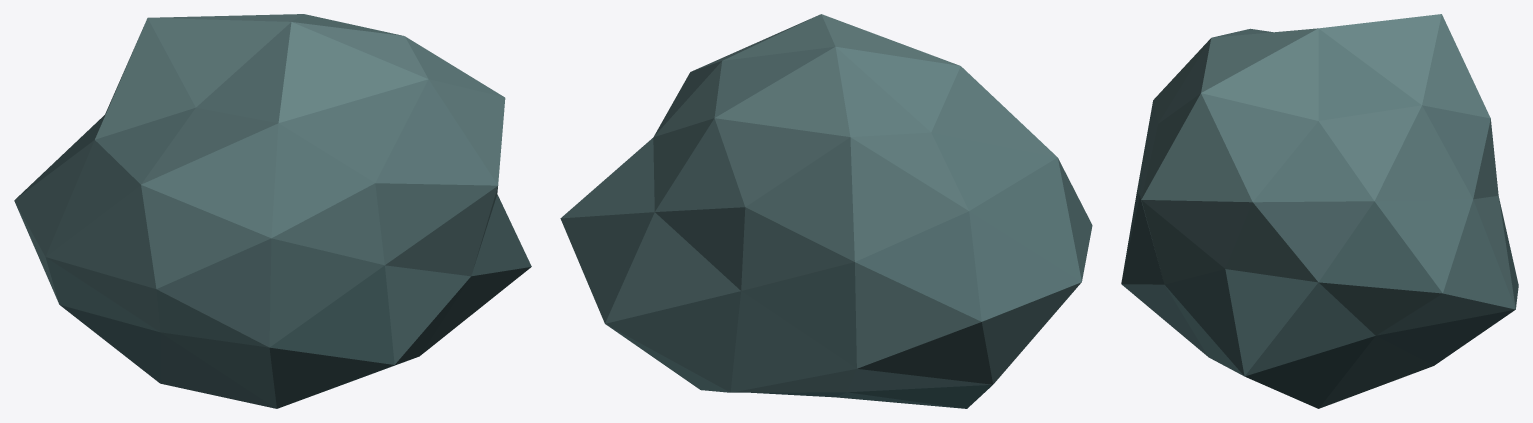
Rendered from kaya.glb.
The picture shows the model from 3 angles, left to right: view 1: azimuth 30°, elevation 25°; view 2: azimuth 150°, elevation 25°; view 3: azimuth 270°, elevation 25°; orthographic projection. The views are drawn at different scales.
Parts seen in each view (by area): view 1: Kaya; view 2: Kaya; view 3: Kaya.
Boxes of the visible parts, x1,y1,x2,y2 form: Kaya: (14,14,531,408); Kaya: (560,14,1092,408); Kaya: (1121,14,1518,408).
Size of the model in its own units: 2.25 by 1.65 by 1.78.
